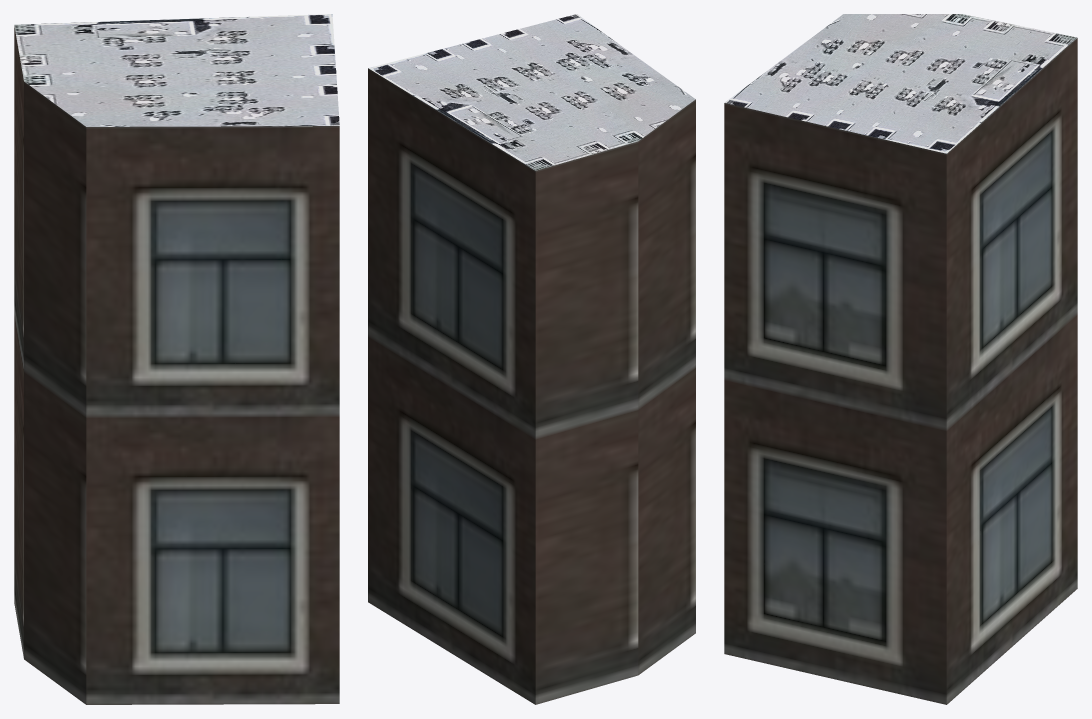
Rendered from ResTex__660.fbx.
The picture shows the model from 3 angles, left to right: view 1: azimuth 30°, elevation 25°; view 2: azimuth 150°, elevation 25°; view 3: azimuth 270°, elevation 25°; orthographic projection. The views are drawn at different scales.
Visible parts, largest first — view 1: CityEngineMaterial_16_m, CityEngineMaterial_15_m; view 2: CityEngineMaterial_16_m, CityEngineMaterial_15_m; view 3: CityEngineMaterial_16_m, CityEngineMaterial_15_m.
Boxes of the visible parts, x1,y1,x2,y2 form: CityEngineMaterial_16_m: (14, 26, 339, 704); CityEngineMaterial_15_m: (14, 14, 339, 126); CityEngineMaterial_16_m: (368, 68, 695, 704); CityEngineMaterial_15_m: (368, 14, 695, 170); CityEngineMaterial_16_m: (724, 38, 1077, 704); CityEngineMaterial_15_m: (724, 14, 1076, 153).
Size of the model in its own units: 3.26 by 6 by 3.48.
2 materials, 2 textured.
